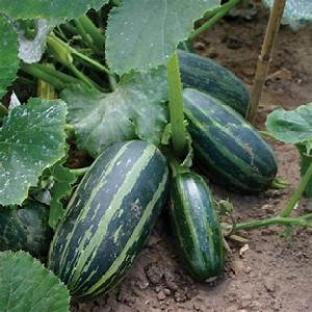Zucchini: (49, 141, 168, 299), (184, 89, 277, 192), (171, 173, 224, 280), (178, 50, 249, 116), (0, 200, 53, 255)
